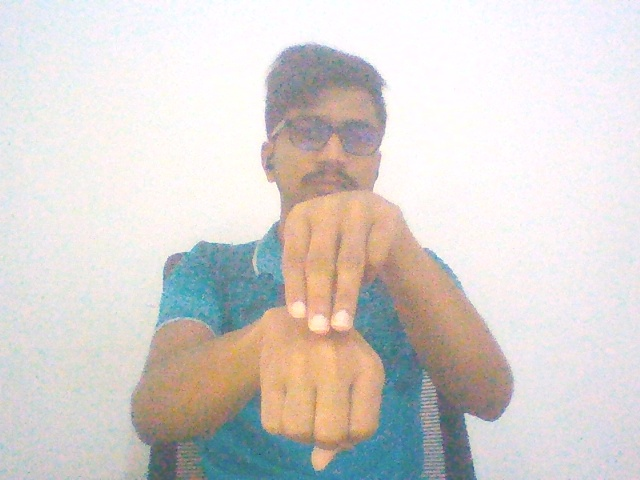papaya: (229, 165, 423, 480)
